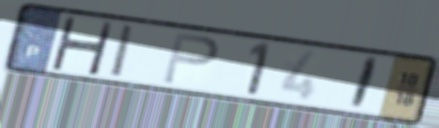1: (245, 40, 274, 99)
4: (276, 48, 323, 103)
H: (48, 15, 117, 78)
I: (346, 55, 383, 112), (108, 22, 138, 81)
P: (159, 30, 221, 86)
